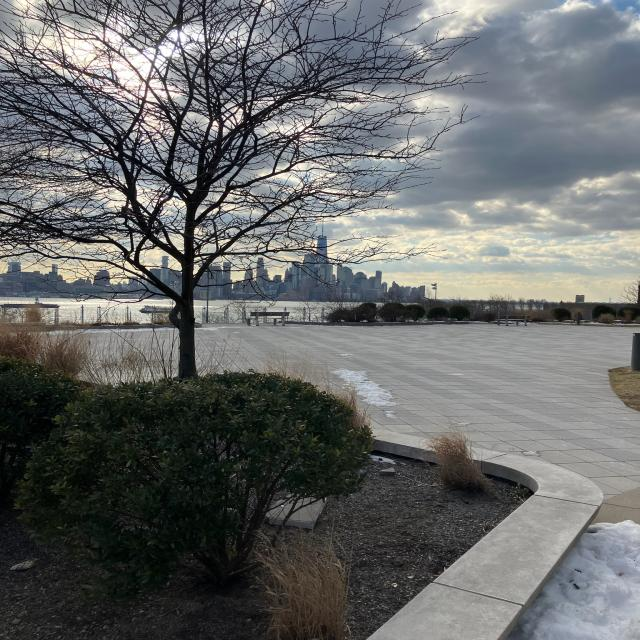WTC: (316, 220, 328, 260)
